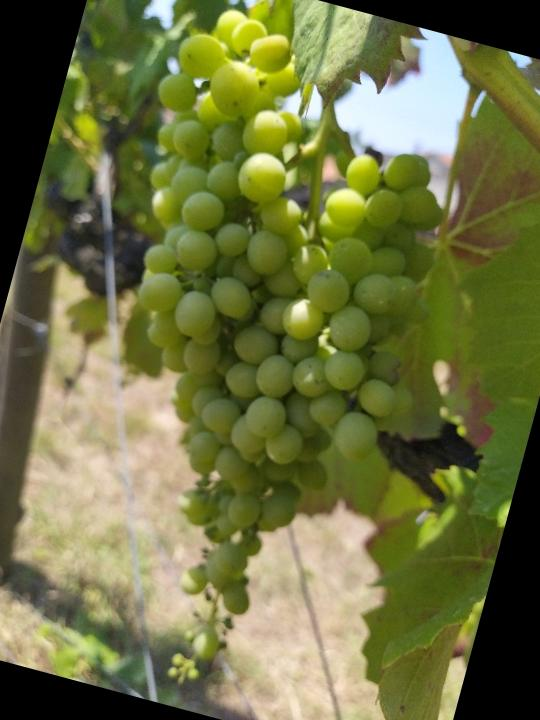grape: (8, 0, 484, 720)
